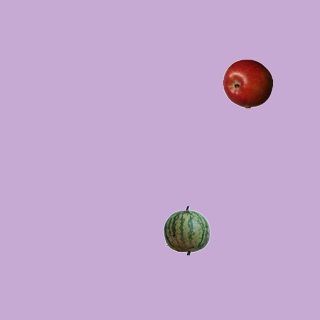Apple Braeburn: (222, 58, 272, 108)
Watermelon: (161, 205, 211, 255)
